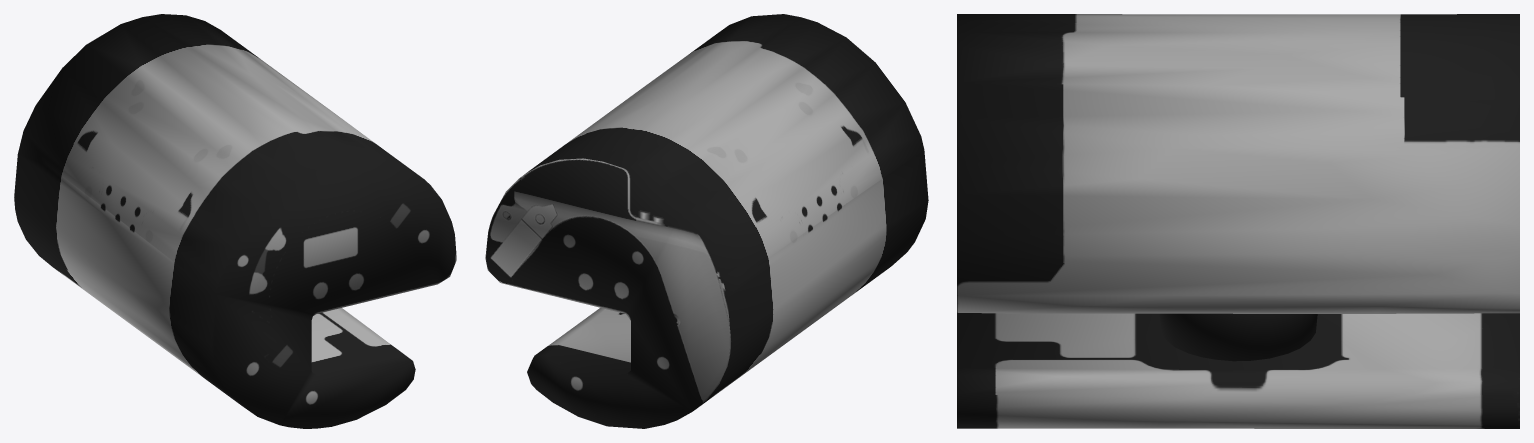
File: laser_tilt_mount_link.OBJ
3 renders of one model, left to right at view 1: azimuth 30°, elevation 25°; view 2: azimuth 150°, elevation 25°; view 3: azimuth 270°, elevation 25°, orthographic. The views are drawn at different scales.
Visible parts, largest first — view 1: /ambf/env/pr2/laser_tilt_mount_link_/ambf/env/pr2/laser_tilt_mou; view 2: /ambf/env/pr2/laser_tilt_mount_link_/ambf/env/pr2/laser_tilt_mou; view 3: /ambf/env/pr2/laser_tilt_mount_link_/ambf/env/pr2/laser_tilt_mou.
Boxes of the visible parts, bbox=[...] form: /ambf/env/pr2/laser_tilt_mount_link_/ambf/env/pr2/laser_tilt_mou: bbox=[14, 14, 456, 428]; /ambf/env/pr2/laser_tilt_mount_link_/ambf/env/pr2/laser_tilt_mou: bbox=[485, 14, 928, 428]; /ambf/env/pr2/laser_tilt_mount_link_/ambf/env/pr2/laser_tilt_mou: bbox=[957, 14, 1519, 428].
Bounding box in the file's own units: 0.1172 × 0.1202 × 0.163.
